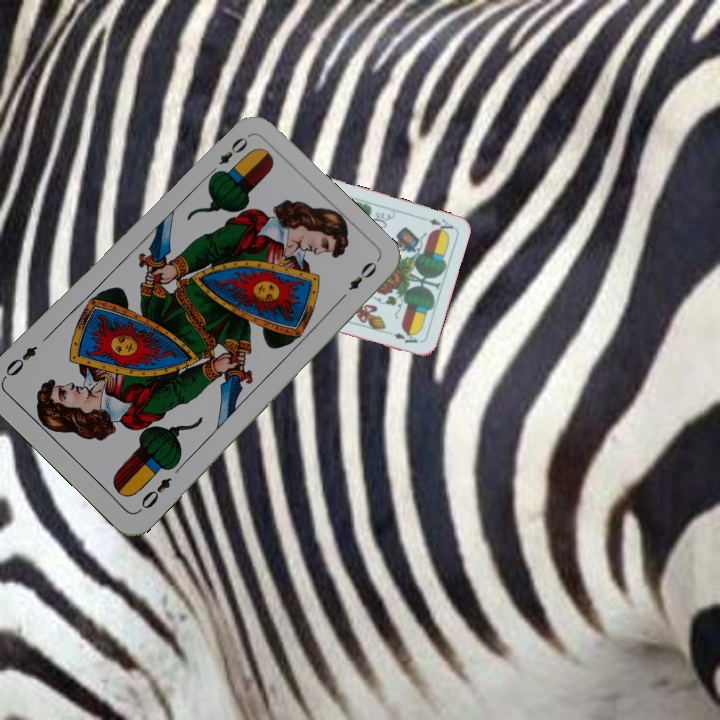EA: (425, 214, 456, 235)
EO: (205, 132, 251, 179), (137, 473, 175, 512)
